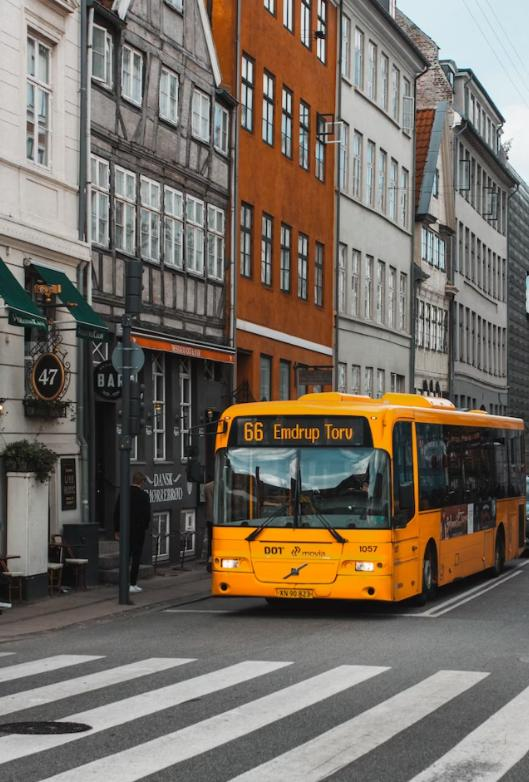vehicle: (188, 390, 527, 608)
